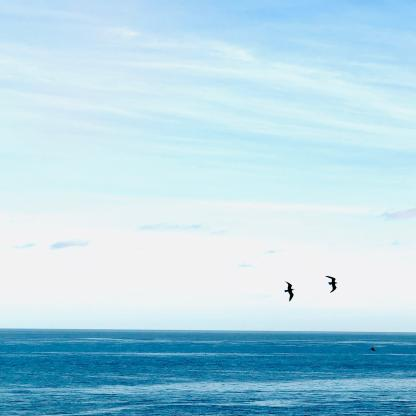bird: (284, 281, 296, 301), (325, 276, 338, 293), (370, 347, 376, 352)
